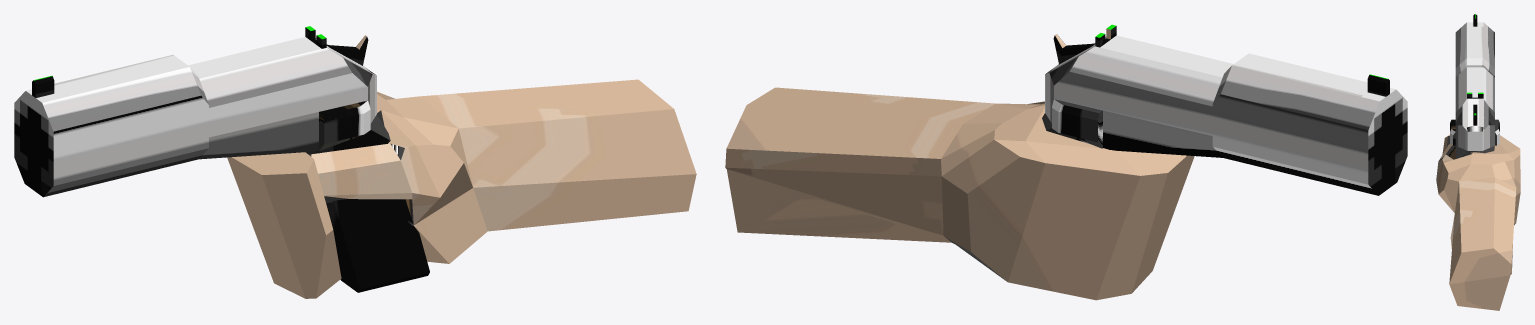
File: PistolHandTextured.fbx
The picture shows the model from 3 angles, left to right: view 1: azimuth 30°, elevation 25°; view 2: azimuth 150°, elevation 25°; view 3: azimuth 270°, elevation 25°; orthographic projection. The views are drawn at different scales.
Parts seen in each view (by area): view 1: Cube; view 2: Cube; view 3: Cube.
Boxes of the visible parts, bbox=[...] form: Cube: bbox=[14, 26, 696, 298]; Cube: bbox=[725, 24, 1407, 300]; Cube: bbox=[1436, 14, 1520, 310].
Bounding box in the file's own units: 2996 × 1297 × 689.
